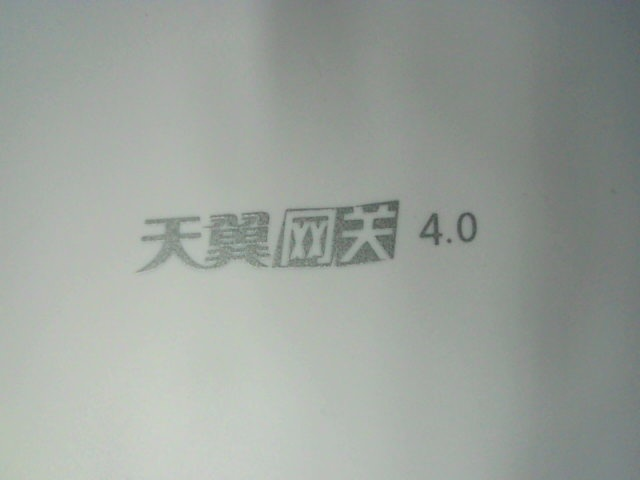BM_TianYiWangGuan: (122, 196, 484, 280)
